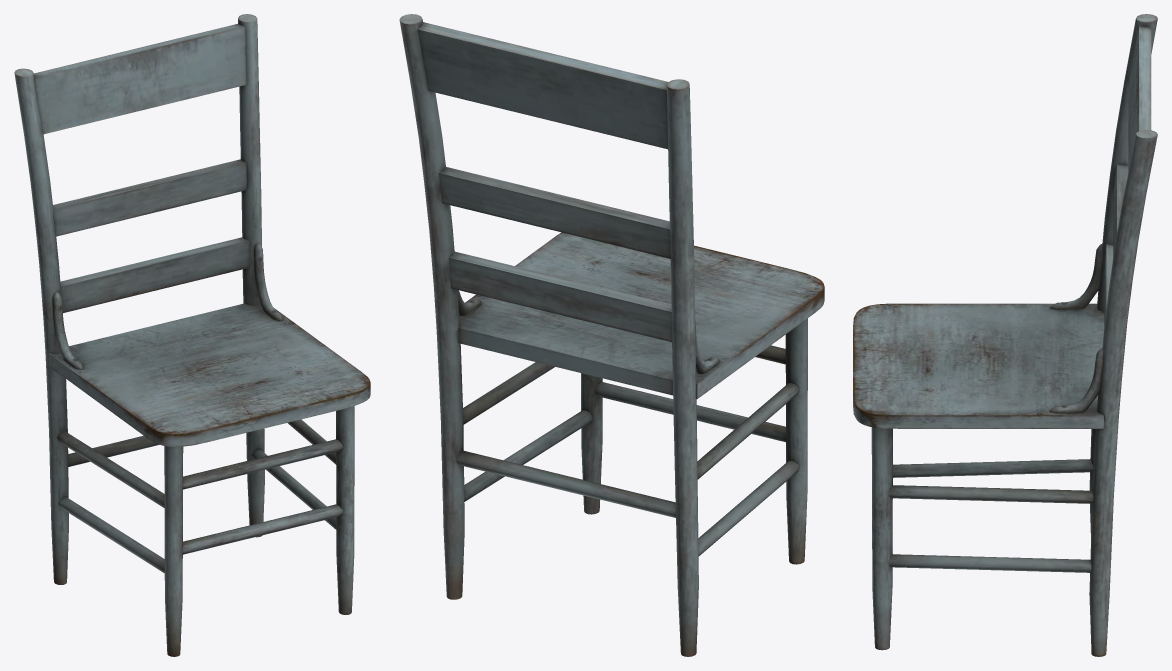
The model's file is painted_wooden_chair_02.glb.
3 renders of one model, left to right at view 1: azimuth 30°, elevation 25°; view 2: azimuth 150°, elevation 25°; view 3: azimuth 270°, elevation 25°, orthographic. The views are drawn at different scales.
Visible parts, largest first — view 1: painted_wooden_chair_02; view 2: painted_wooden_chair_02; view 3: painted_wooden_chair_02.
Boxes of the visible parts, box(x1,y1,x2,y2) form: painted_wooden_chair_02: box(14, 14, 370, 656); painted_wooden_chair_02: box(399, 14, 824, 656); painted_wooden_chair_02: box(853, 14, 1157, 656).
Bounding box in the file's own units: 0.6394 × 1.26 × 0.6621.
1 material, 1 textured.
